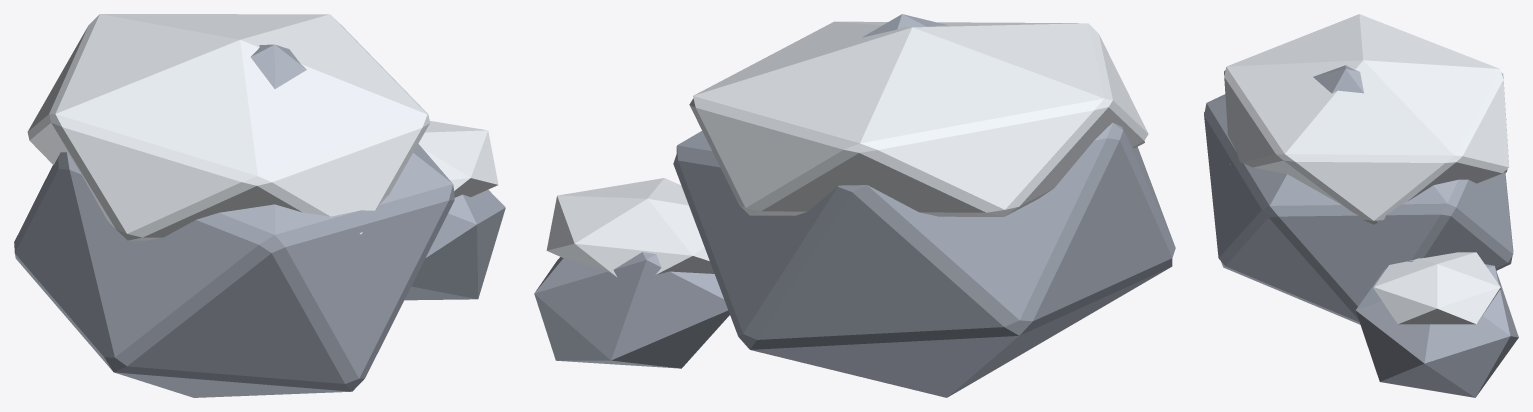
Rendered from rock_snow_large.glb.
3 views of the same model, side by side, from view 1: azimuth 30°, elevation 25°; view 2: azimuth 150°, elevation 25°; view 3: azimuth 270°, elevation 25° (orthographic). The views are drawn at different scales.
Visible parts, largest first — view 1: Rock, RockSnow, RockChip, ChipSnow; view 2: Rock, RockSnow, RockChip, ChipSnow; view 3: RockSnow, Rock, RockChip, ChipSnow.
Part boxes in pixels (<box>): Rock: <box>14,44,454,397</box>; RockSnow: <box>27,14,430,240</box>; RockChip: <box>404,189,505,300</box>; ChipSnow: <box>418,121,498,197</box>; Rock: <box>673,14,1175,397</box>; RockSnow: <box>689,21,1148,216</box>; RockChip: <box>534,252,729,368</box>; ChipSnow: <box>546,178,714,276</box>; RockSnow: <box>1224,14,1509,224</box>; Rock: <box>1204,65,1513,324</box>; RockChip: <box>1355,260,1518,397</box>; ChipSnow: <box>1373,252,1500,324</box>.
Bounding box in the file's own units: 1.43 × 0.9547 × 1.08.
